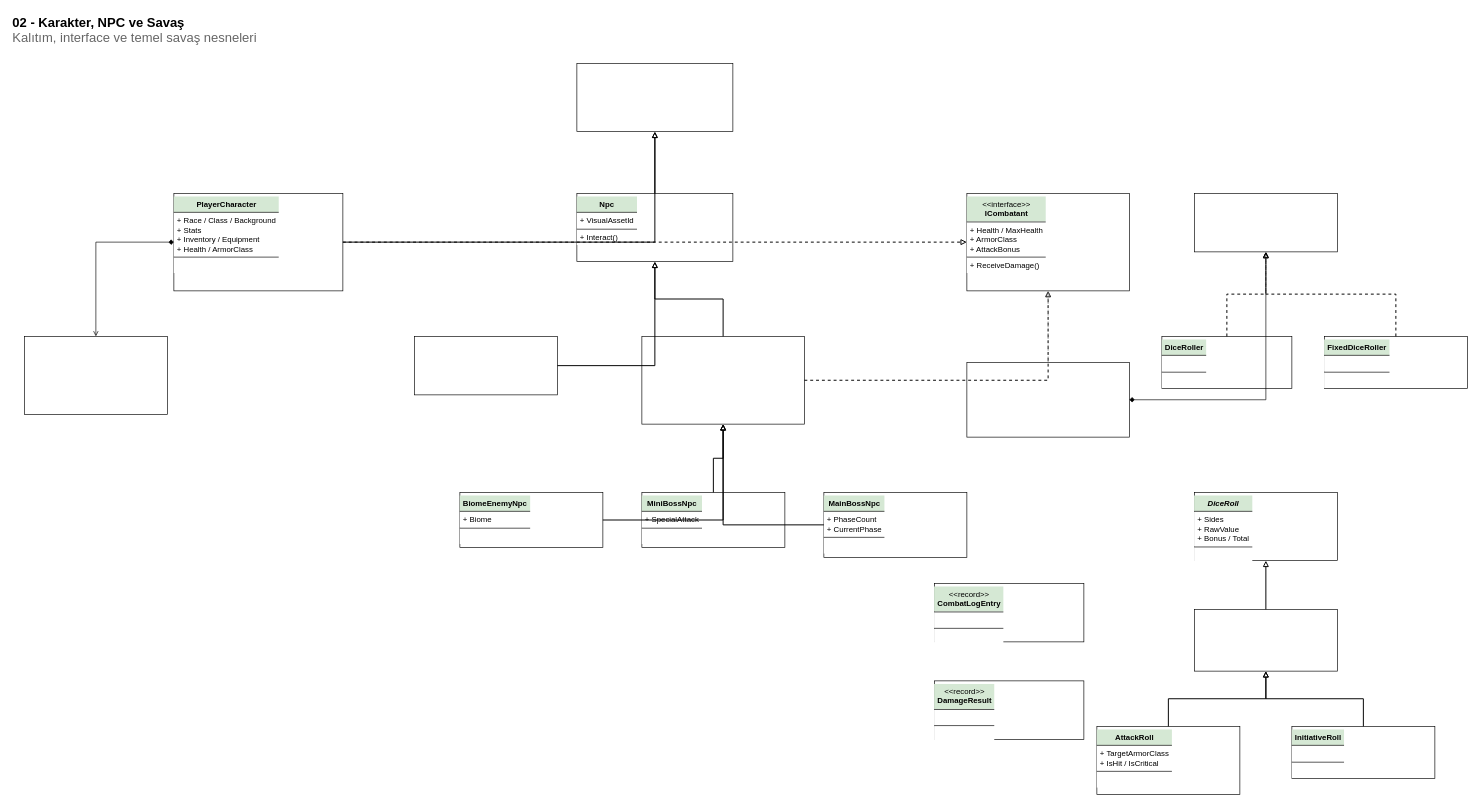
This 1479x809 diagram has some shape labels left out. Each missing label, with the centre of its shape:
"<<interface>> IDiceRoller + Roll()" goes at point 1265,222.
"CharacterStats + STR / DEX / CON + INT / WIS / CHA + Modifier()" goes at point 95,375.
"CombatService + Attack() + RollInitiative() + RollDamage()" goes at point 1047,399.
"D20Roll + Natural 1 + Natural 20" goes at point 1265,640.
"EnemyNpc + Health / ArmorClass + CharacterClass + Weapon / RewardGold" goes at point 722,380.
"FriendlyNpc + DialogueKey" goes at point 485,365.
"GameEntity + Id + Name + IsActive" goes at point 654,97.
